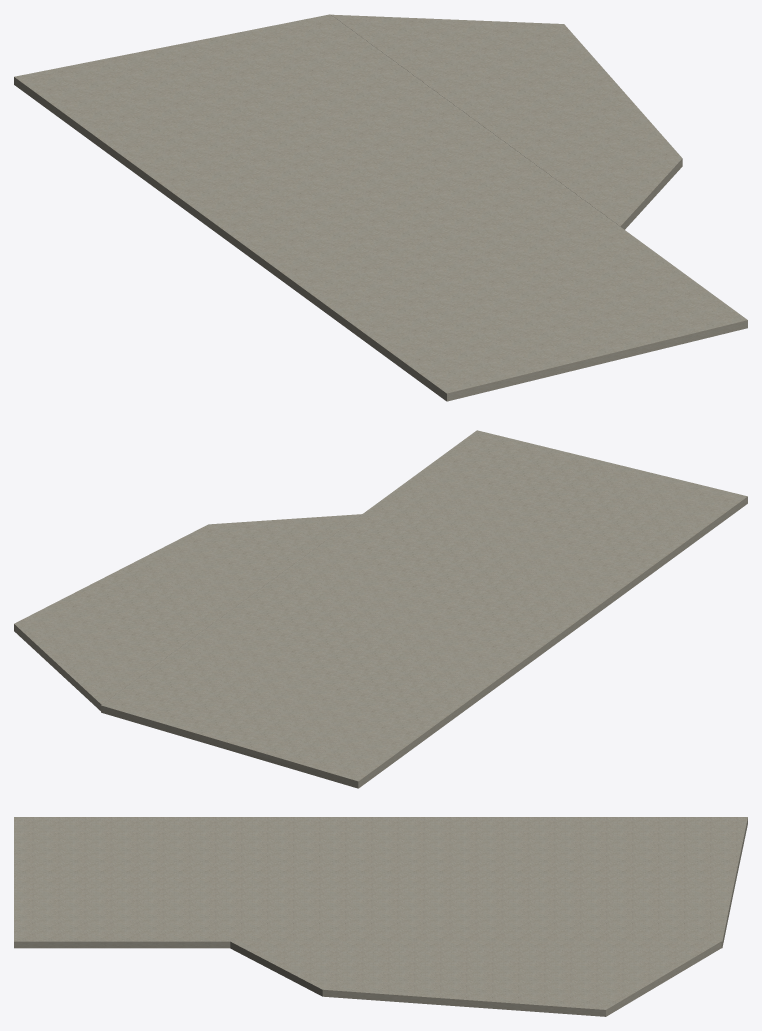
Rendered from Floor.FBX.
3 renders of one model, top to bottom at view 1: azimuth 30°, elevation 25°; view 2: azimuth 150°, elevation 25°; view 3: azimuth 270°, elevation 25°, orthographic. The views are drawn at different scales.
Visible parts, largest first — view 1: Floors <Floor : Generic - 12" High>010, Floors <Floor : Generic - 12" High>006, Object338, Object335, Object340; view 2: Floors <Floor : Generic - 12" High>010, Floors <Floor : Generic - 12" High>006, Object338, Object335, Object340; view 3: Floors <Floor : Generic - 12" High>010, Floors <Floor : Generic - 12" High>006, Object335, Object338, Object340.
Boxes of the visible parts, box(x1,y1,x2,y2) form: Floors <Floor : Generic - 12" High>010: box(14, 14, 747, 401); Floors <Floor : Generic - 12" High>006: box(331, 14, 682, 229); Object338: box(344, 86, 485, 153); Object335: box(545, 48, 658, 137); Object340: box(619, 170, 667, 205); Floors <Floor : Generic - 12" High>010: box(101, 430, 747, 788); Floors <Floor : Generic - 12" High>006: box(14, 514, 361, 710); Object338: box(194, 600, 321, 659); Object335: box(49, 544, 198, 615); Object340: box(244, 518, 301, 532); Floors <Floor : Generic - 12" High>010: box(14, 817, 747, 948); Floors <Floor : Generic - 12" High>006: box(230, 941, 721, 1016); Object335: box(379, 979, 560, 1013); Object338: box(446, 907, 558, 938); Object340: box(268, 955, 319, 985).
Size of the model in its own units: 1142 by 19.21 by 1836.
1 material, 1 textured.
